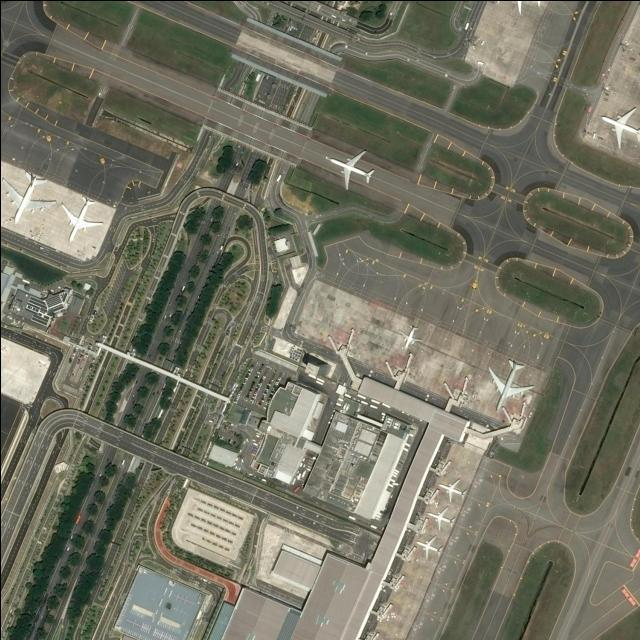Aircraft: (0, 168, 54, 223), (1, 168, 55, 222), (485, 354, 531, 412), (486, 357, 532, 411), (58, 192, 102, 241), (326, 147, 374, 191), (324, 147, 374, 189), (61, 195, 103, 242), (600, 101, 640, 149), (598, 104, 640, 147), (437, 476, 467, 501), (425, 505, 455, 530), (413, 534, 442, 559), (438, 478, 464, 502), (426, 506, 452, 530), (397, 323, 421, 349), (415, 534, 440, 558), (398, 323, 420, 350), (503, 0, 545, 12)
